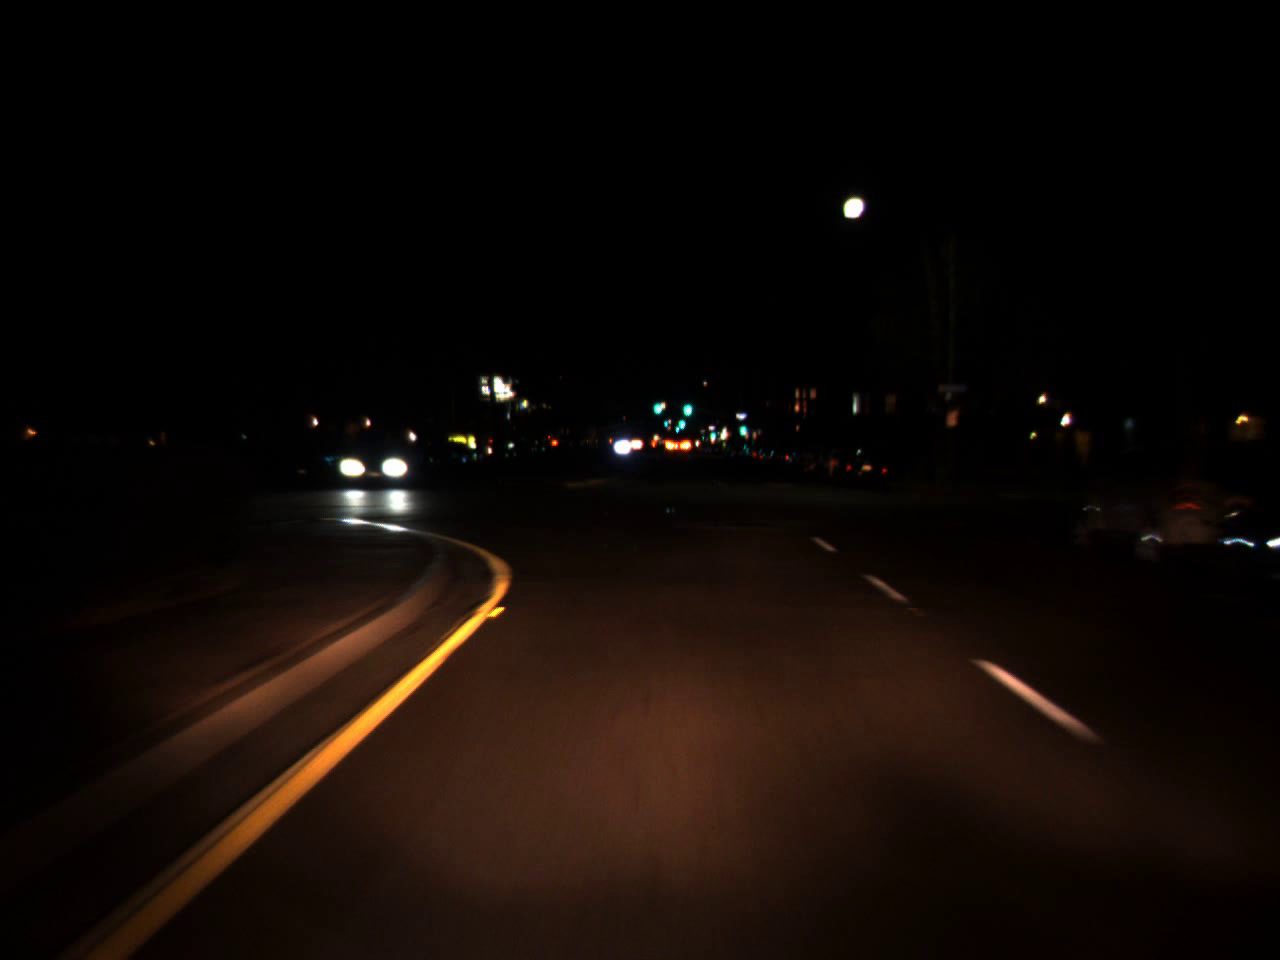go: (680, 388, 694, 421), (651, 393, 661, 417), (737, 415, 747, 439), (677, 409, 686, 433), (708, 425, 715, 440)
